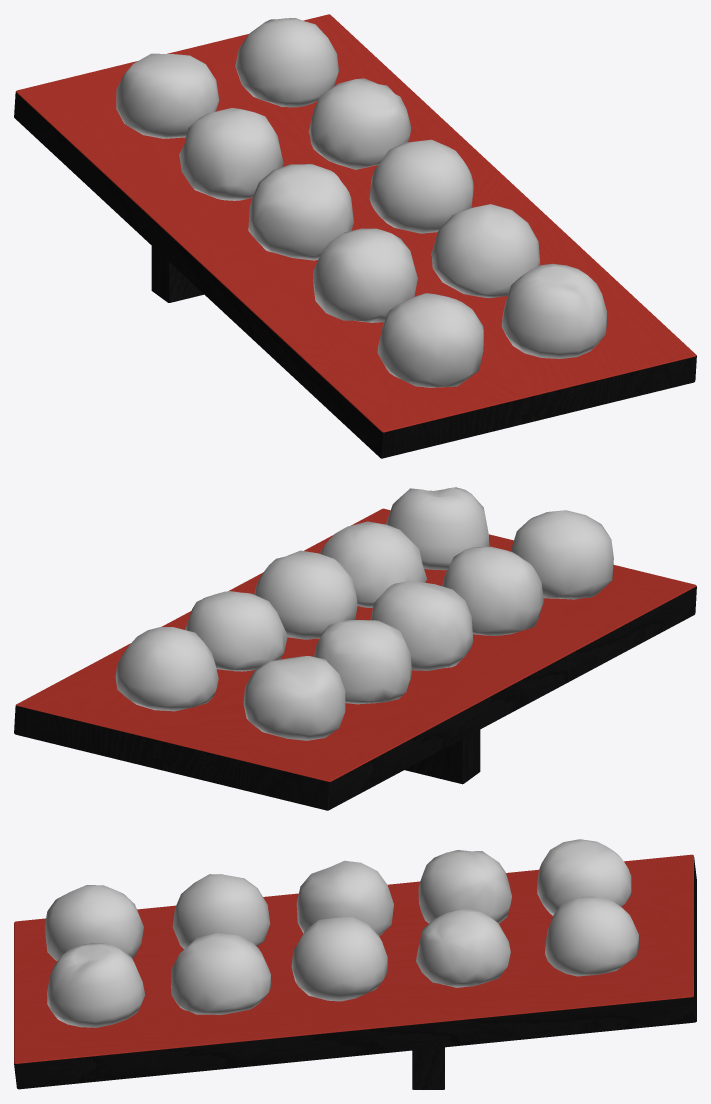
Rendered from Akashiyaki_sara03.fbx.
The picture shows the model from 3 angles, top to bottom: view 1: azimuth 30°, elevation 25°; view 2: azimuth 150°, elevation 25°; view 3: azimuth 270°, elevation 25°; orthographic projection. The views are drawn at different scales.
Visible parts, largest first — view 1: Akashiyaki_sara03; view 2: Akashiyaki_sara03; view 3: Akashiyaki_sara03.
Part boxes in pixels (left/top/right/bottom): Akashiyaki_sara03: left=14, top=14, right=696, bottom=458; Akashiyaki_sara03: left=14, top=487, right=696, bottom=810; Akashiyaki_sara03: left=14, top=839, right=696, bottom=1089.
Bounding box in the file's own units: 11.52 × 5.49 × 23.38.
